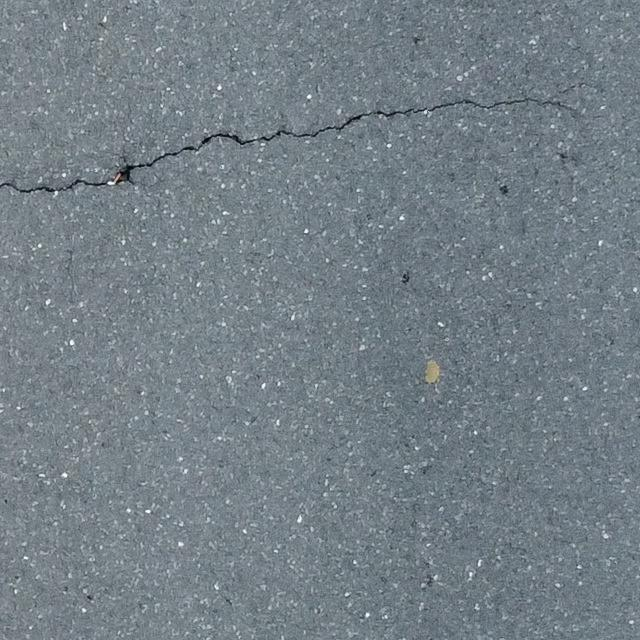TransverseCrack: (1, 79, 587, 193)
